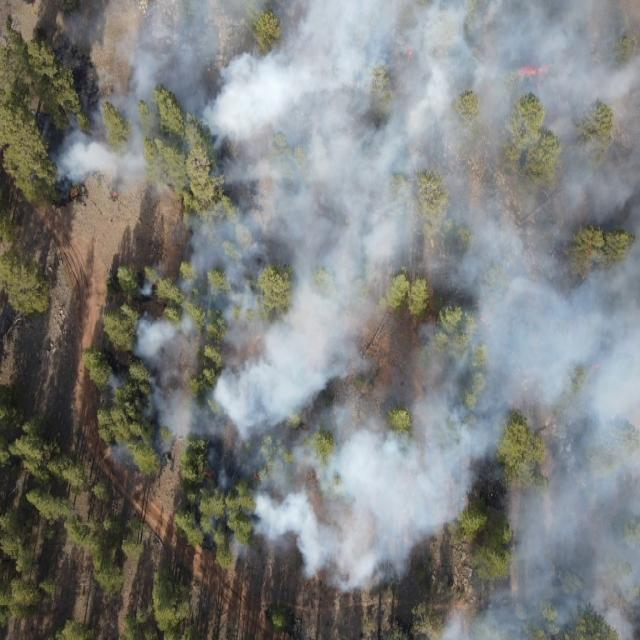fire: (518, 66, 548, 80), (588, 360, 604, 375), (200, 466, 216, 480), (583, 241, 597, 257), (403, 48, 418, 60), (579, 271, 590, 284), (110, 190, 120, 200), (70, 188, 80, 198), (252, 468, 261, 479)
smoke: (181, 202, 640, 488), (49, 0, 640, 204), (229, 487, 475, 589), (507, 486, 640, 640), (134, 264, 180, 474), (476, 577, 507, 640), (438, 604, 477, 640), (98, 368, 130, 393), (105, 443, 133, 467)
